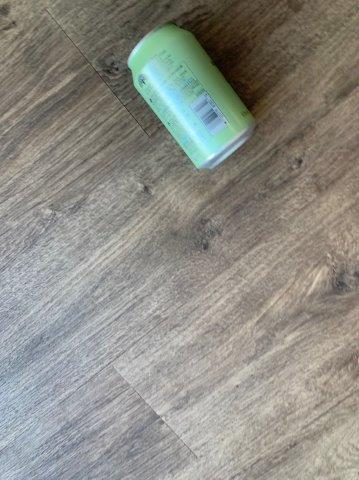kaleng: (128, 23, 253, 168)
